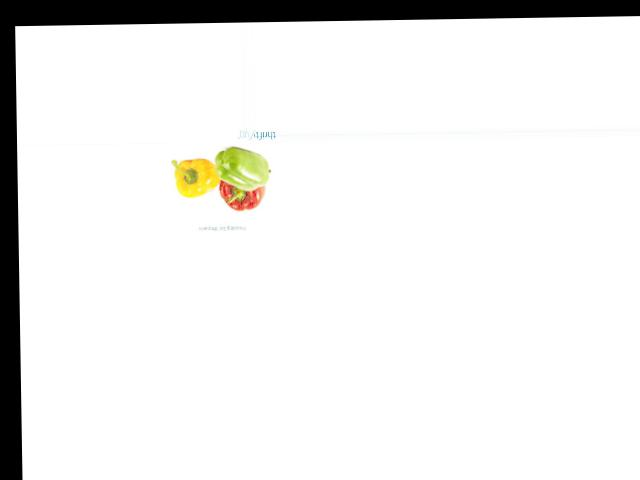bell_pepper: (210, 141, 272, 190)
